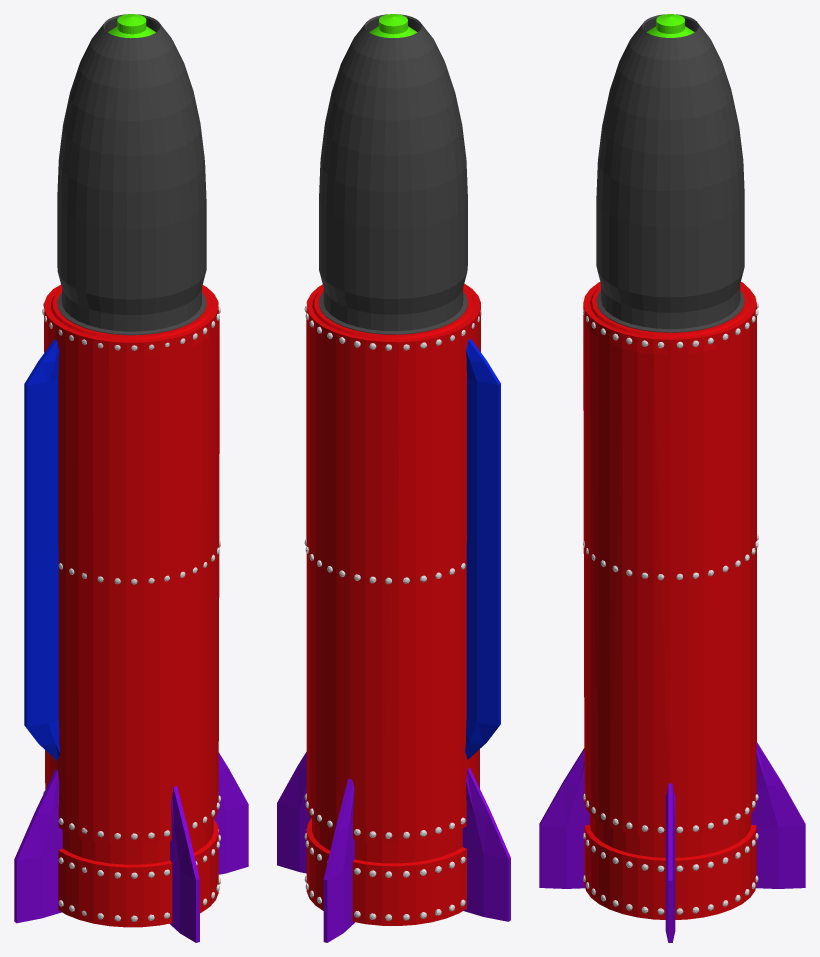
The model's file is break_missile.dae.
3 views of the same model, side by side, from view 1: azimuth 30°, elevation 25°; view 2: azimuth 150°, elevation 25°; view 3: azimuth 270°, elevation 25° (orthographic).
Parts seen in each view (by area): view 1: Cylinder_cell.063, Cylinder_cell.064, Cylinder_cell.065, Cylinder_cell.006, Cylinder_cell.005, Cylinder_cell.133, Cylinder_cell.132; view 2: Cylinder_cell.063, Cylinder_cell.064, Cylinder_cell.065, Cylinder_cell.005, Cylinder_cell.004, Cylinder_cell.006, Cylinder_cell.132; view 3: Cylinder_cell.063, Cylinder_cell.064, Cylinder_cell.004, Cylinder_cell.133, Cylinder_cell.132.
Part boxes in pixels (box(x1,y1,x2,y2)): Cylinder_cell.063: box(44, 285, 219, 927); Cylinder_cell.064: box(57, 14, 206, 335); Cylinder_cell.065: box(24, 339, 60, 760); Cylinder_cell.006: box(24, 339, 59, 757); Cylinder_cell.005: box(14, 769, 62, 923); Cylinder_cell.133: box(170, 786, 199, 942); Cylinder_cell.132: box(214, 752, 248, 874); Cylinder_cell.063: box(306, 283, 480, 925); Cylinder_cell.064: box(319, 14, 467, 334); Cylinder_cell.065: box(465, 338, 500, 758); Cylinder_cell.005: box(462, 767, 510, 921); Cylinder_cell.004: box(323, 778, 354, 942); Cylinder_cell.006: box(466, 339, 500, 759); Cylinder_cell.132: box(277, 752, 310, 873); Cylinder_cell.063: box(583, 282, 756, 919); Cylinder_cell.064: box(596, 14, 744, 332); Cylinder_cell.004: box(751, 742, 805, 888); Cylinder_cell.133: box(539, 748, 589, 888); Cylinder_cell.132: box(665, 783, 675, 942).
Size of the model in its own units: 0.9241 by 0.9264 by 3.34.
